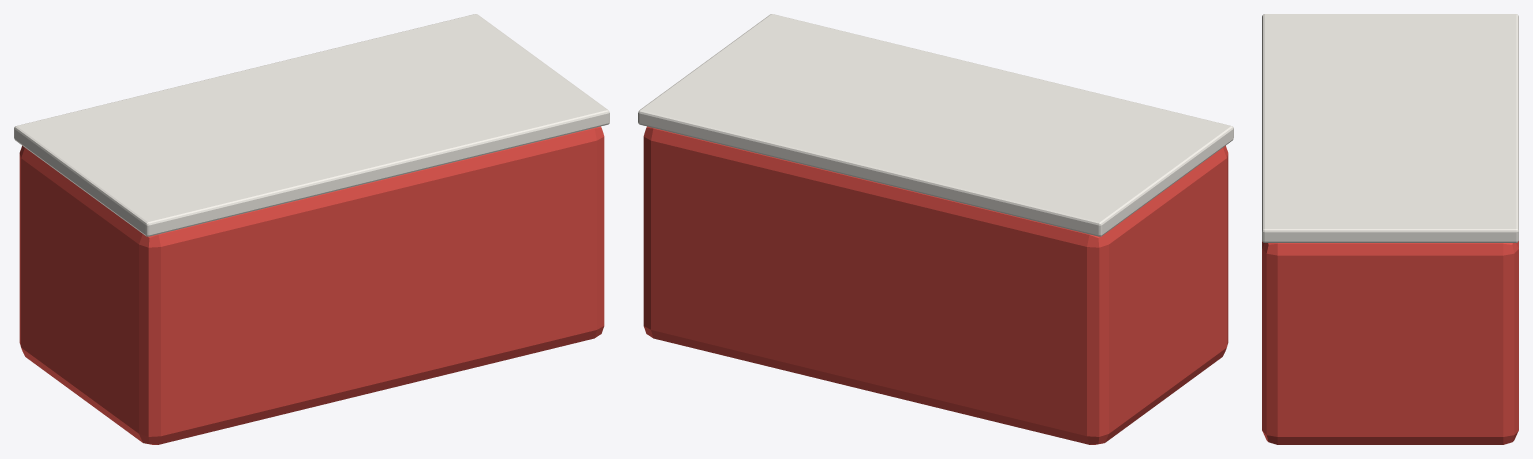
Rendered from Jumping_Box.fbx.
3 renders of one model, left to right at view 1: azimuth 30°, elevation 25°; view 2: azimuth 150°, elevation 25°; view 3: azimuth 270°, elevation 25°, orthographic. The views are drawn at different scales.
Parts seen in each view (by area): view 1: Box; view 2: Box; view 3: Box.
Boxes of the visible parts, bbox=[...] form: Box: bbox=[14, 14, 609, 444]; Box: bbox=[638, 14, 1233, 444]; Box: bbox=[1262, 14, 1518, 444].
Size of the model in its own units: 2 by 0.95 by 1.
